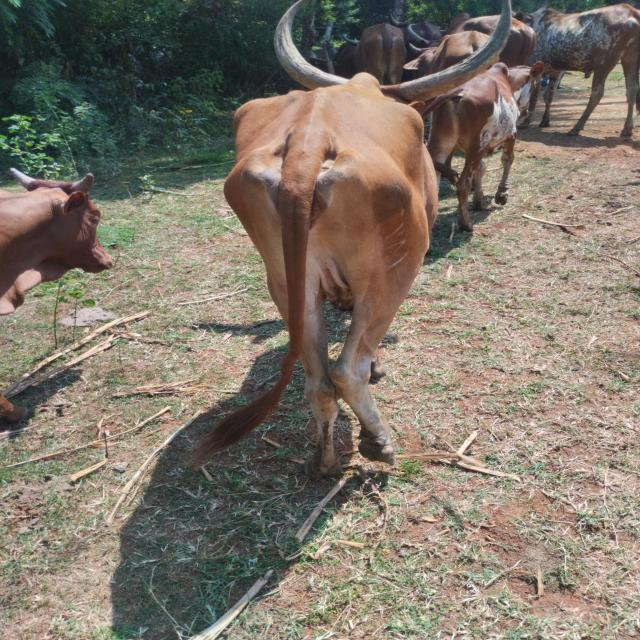Rear: (194, 0, 511, 478)
